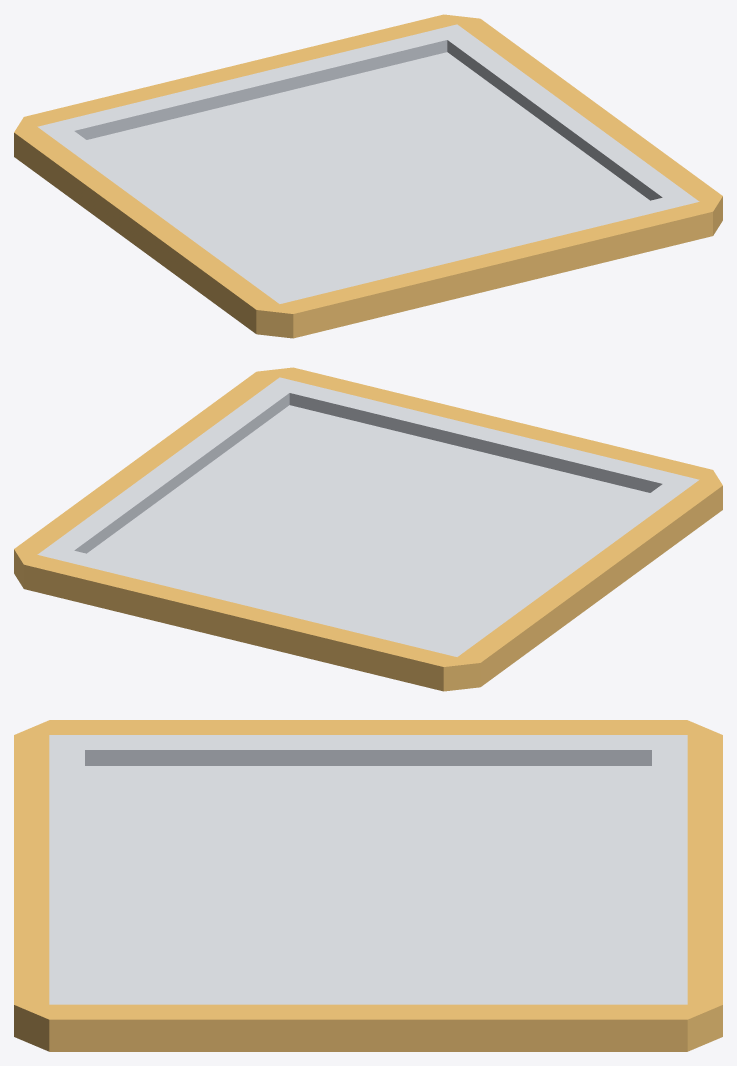
The model's file is platform_large.glb.
The picture shows the model from 3 angles, top to bottom: view 1: azimuth 30°, elevation 25°; view 2: azimuth 150°, elevation 25°; view 3: azimuth 270°, elevation 25°; orthographic projection. The views are drawn at different scales.
Visible parts, largest first — view 1: platform_large; view 2: platform_large; view 3: platform_large.
Boxes of the visible parts, x1=… form: platform_large: x1=14, y1=14, x2=722, y2=338; platform_large: x1=14, y1=367, x2=722, y2=691; platform_large: x1=14, y1=720, x2=722, y2=1051.
Size of the model in its own units: 2 by 0.1 by 2.
1 material, 1 textured.
